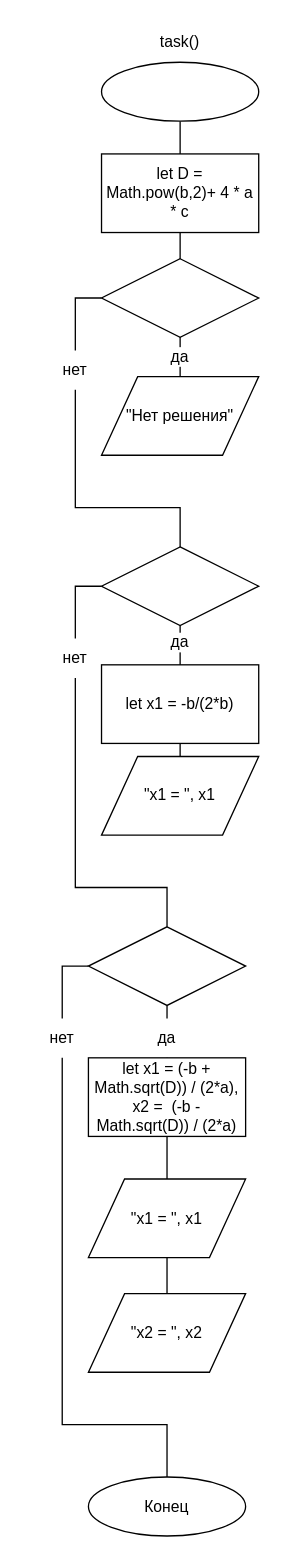
This 282x1559 diagram has some shape labels left out. The shapes that lost their labels are listed below. From the top down, each one's box as (x1, y1, x2, y2) in pixels, then its label:
(100, 61, 259, 121): Начало
(100, 257, 259, 337): D < 0
(100, 546, 259, 626): D === 0
(87, 926, 246, 1005): D > 0
